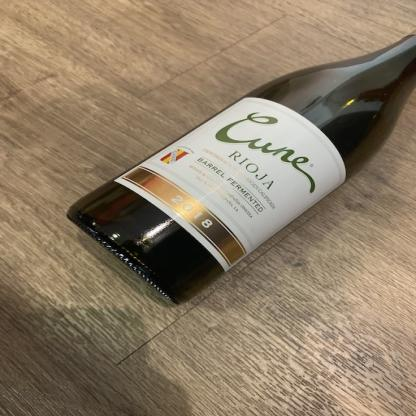trash: (67, 29, 415, 307)
